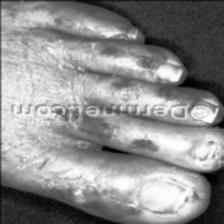Non-Cancerous Skin Condition: (124, 138, 224, 166), (70, 179, 140, 217), (104, 78, 180, 100), (138, 56, 152, 70)
